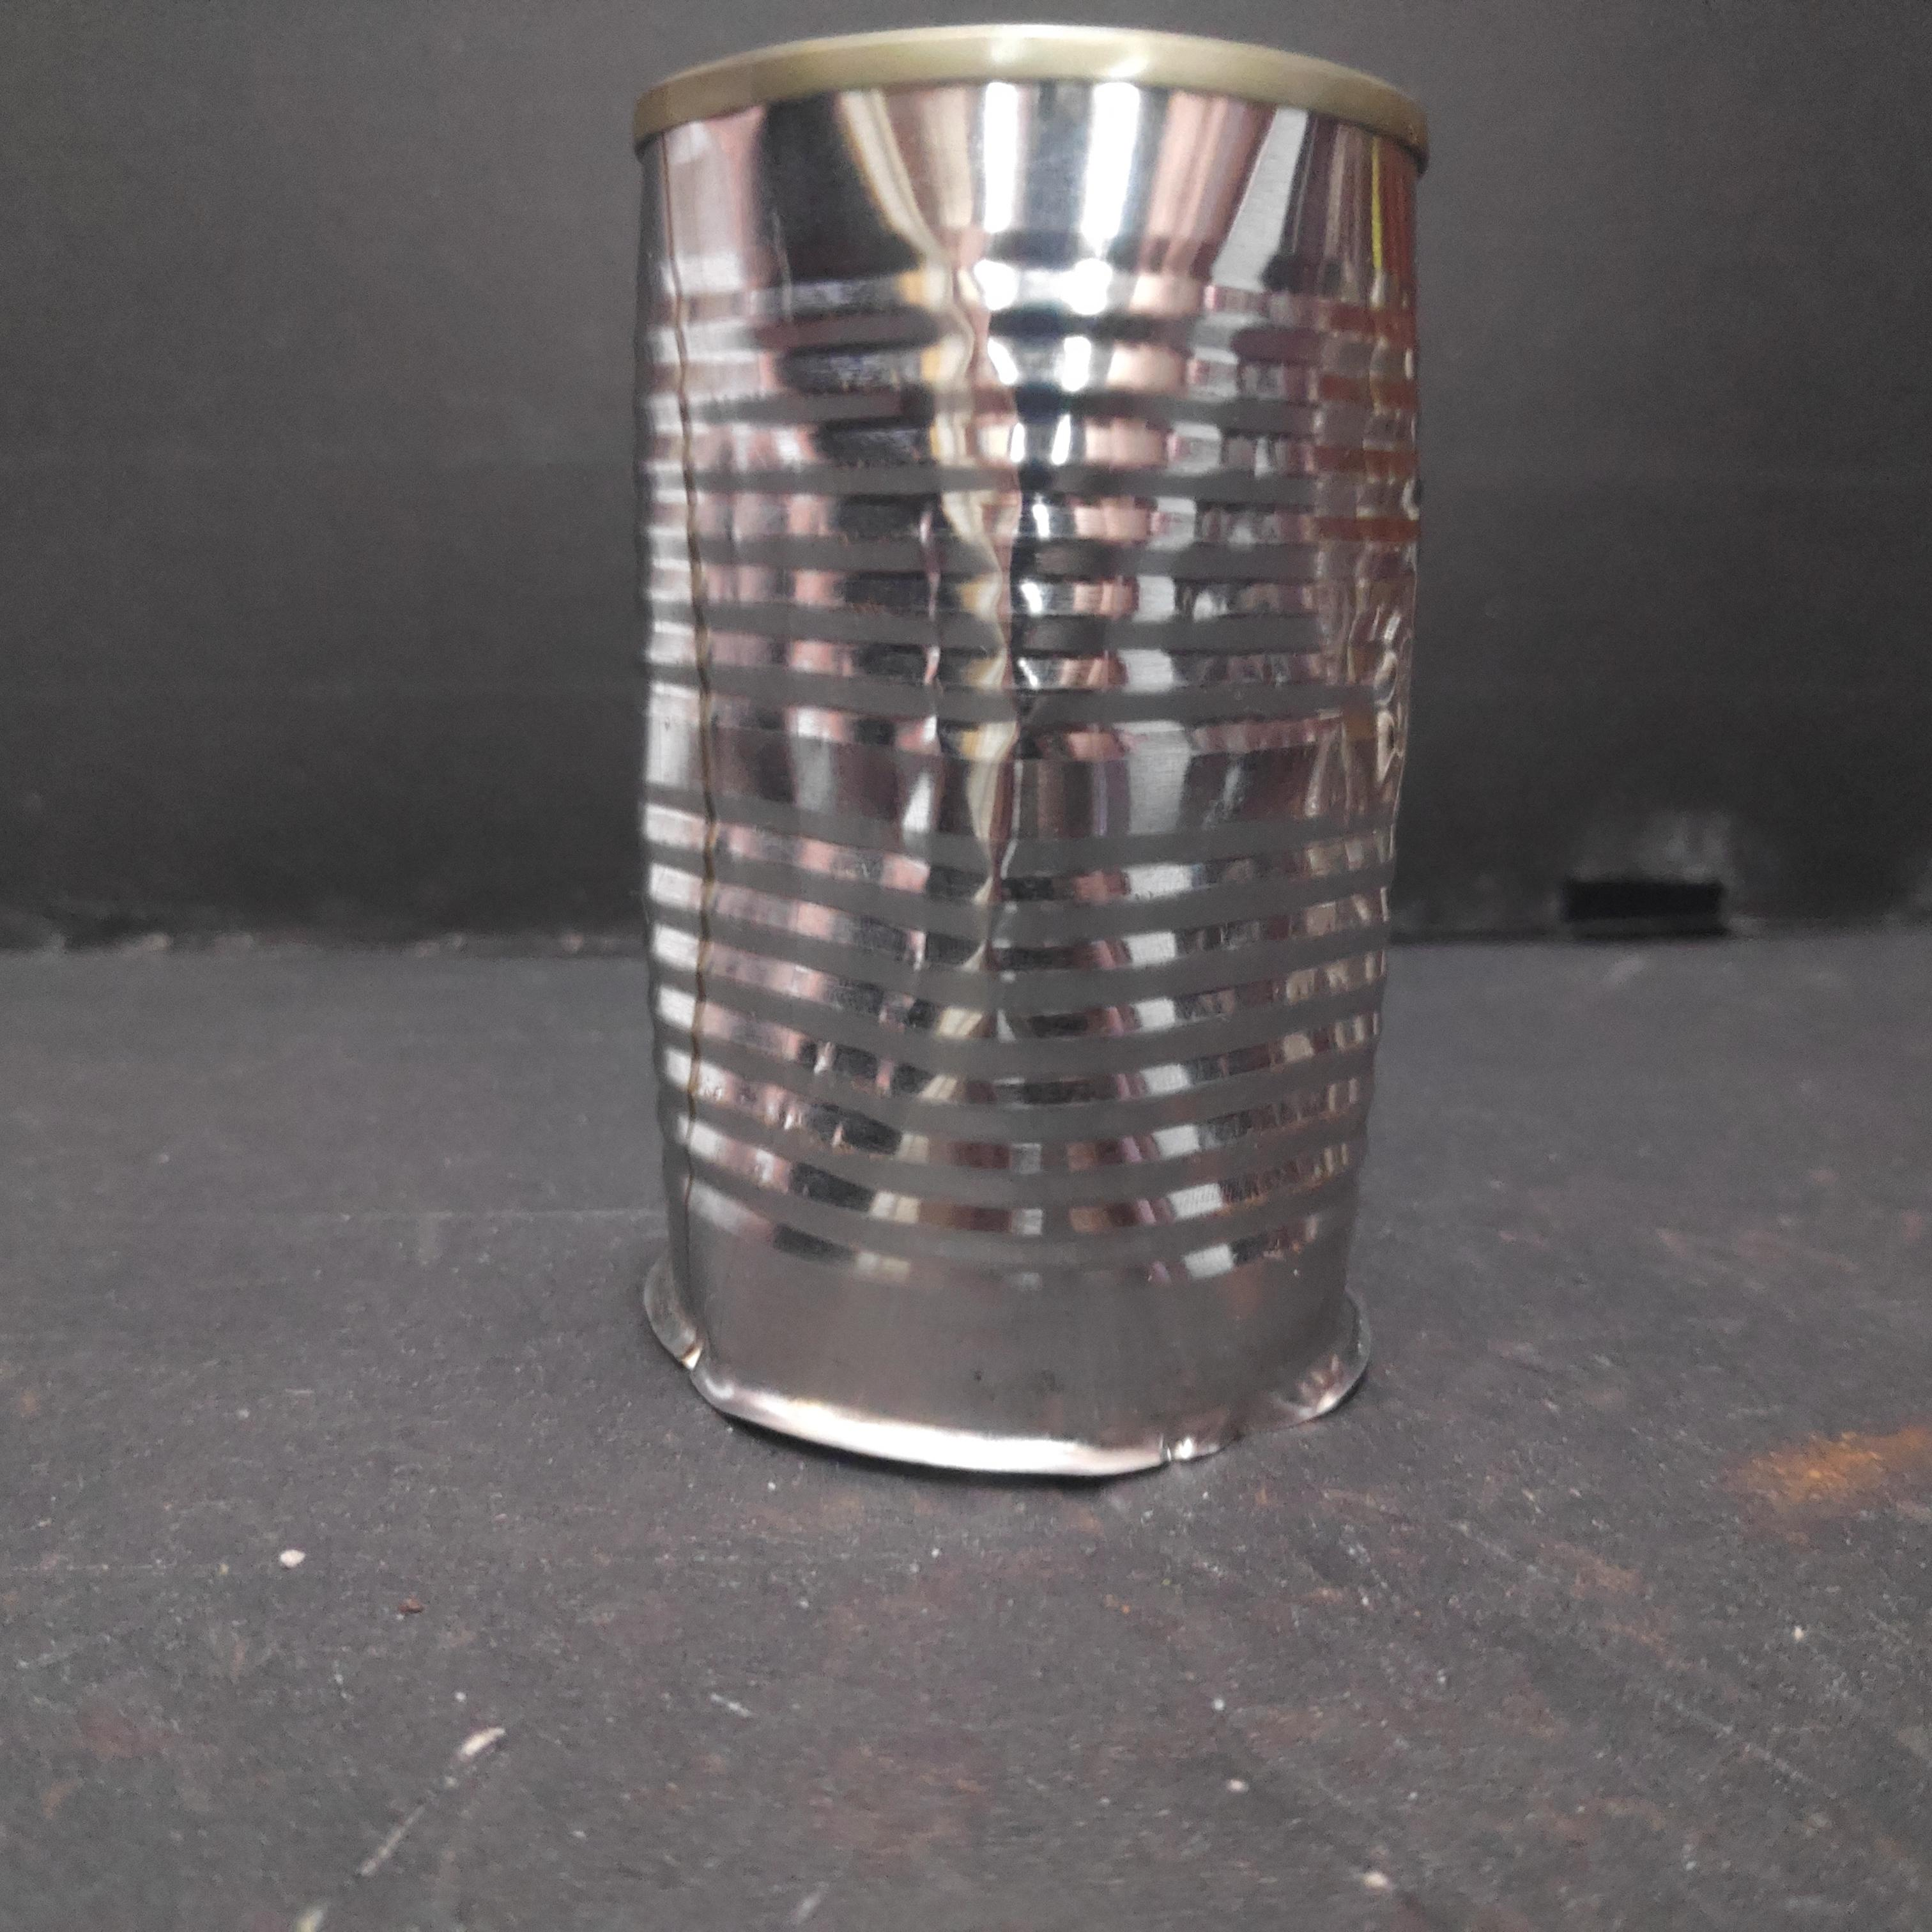Minor Defect: (612, 16, 1442, 1502)
